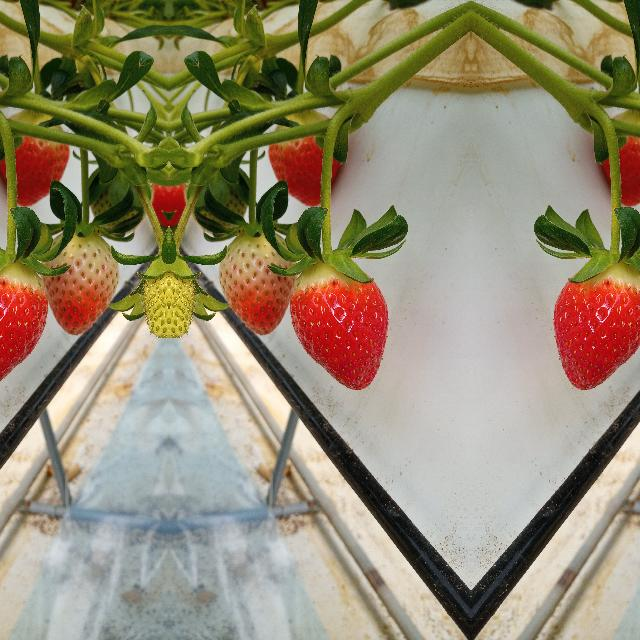Health_100: (289, 259, 389, 391), (552, 259, 640, 391), (264, 95, 354, 202), (0, 94, 71, 201), (0, 259, 47, 391), (587, 94, 640, 201)
Health_25: (168, 248, 196, 356), (140, 248, 168, 356)
Health_75: (204, 222, 294, 338), (42, 222, 132, 338)
